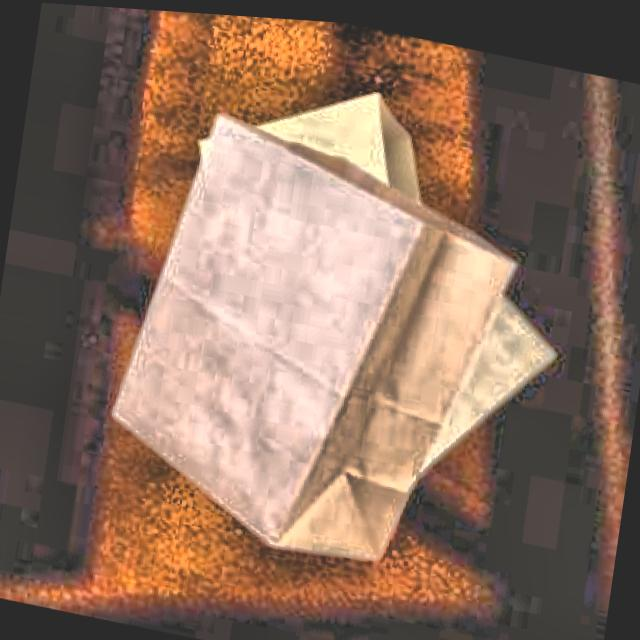Paper-bag: (90, 86, 535, 602), (141, 53, 588, 535)
